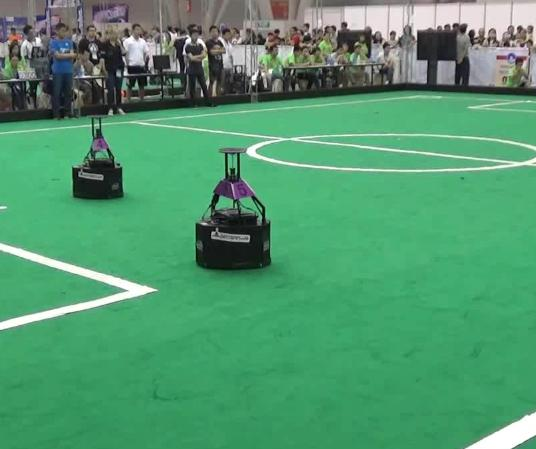robot: (190, 145, 276, 274), (63, 111, 131, 200)
